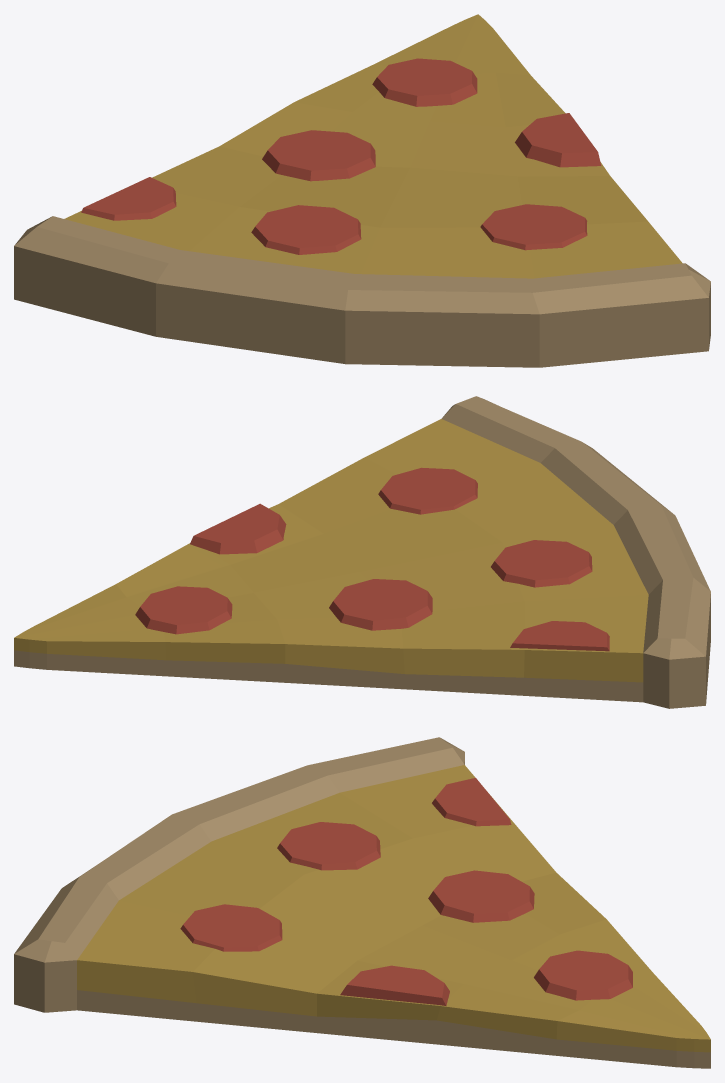
File: Pizza Slice.glb
3 renders of one model, top to bottom at view 1: azimuth 30°, elevation 25°; view 2: azimuth 150°, elevation 25°; view 3: azimuth 270°, elevation 25°, orthographic. The views are drawn at different scales.
Visible parts, largest first — view 1: Pizza_Slice.001; view 2: Pizza_Slice.001; view 3: Pizza_Slice.001.
Part boxes in pixels (x1,y1,x2,y2): Pizza_Slice.001: (14,14,710,367); Pizza_Slice.001: (14,396,710,708); Pizza_Slice.001: (14,737,710,1068).
Size of the model in its own units: 1.07 by 0.1128 by 1.13.
